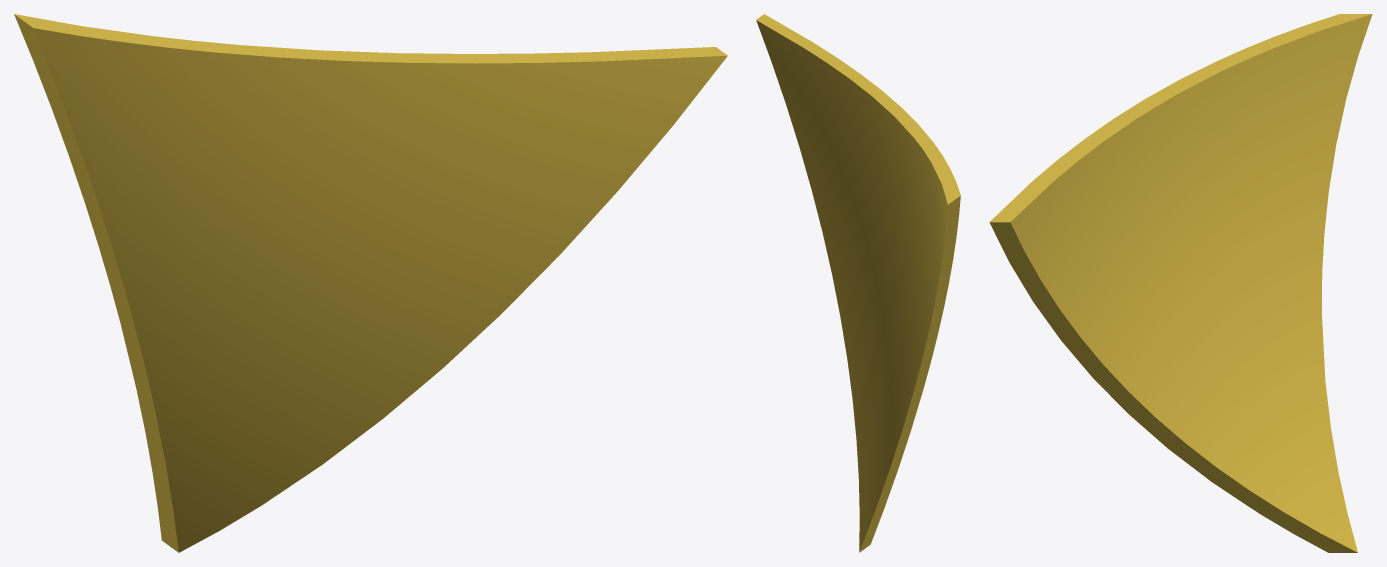
Rendered from helmet1 v1.fbx.
3 renders of one model, left to right at view 1: azimuth 30°, elevation 25°; view 2: azimuth 150°, elevation 25°; view 3: azimuth 270°, elevation 25°, orthographic. The views are drawn at different scales.
Visible parts, largest first — view 1: Body1; view 2: Body1; view 3: Body1.
Boxes of the visible parts, <box> form: Body1: <box>14,14,727,552</box>; Body1: <box>756,14,960,552</box>; Body1: <box>989,14,1372,552</box>.
Bounding box in the file's own units: 50.9 × 54.74 × 39.6.
